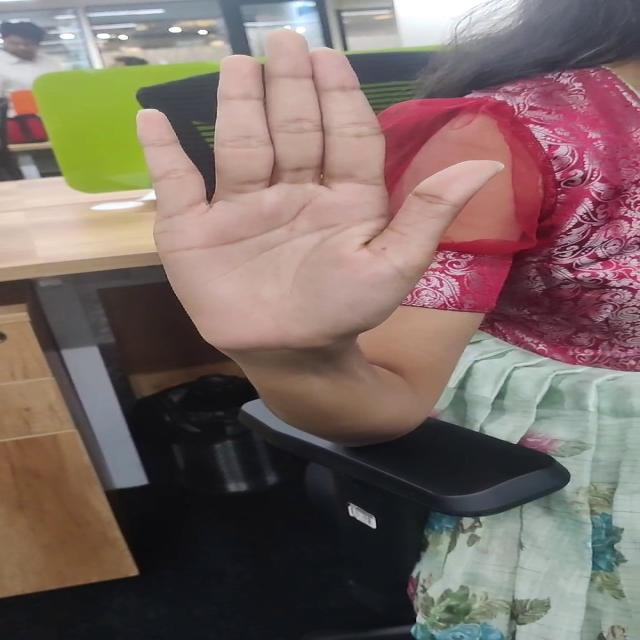no-gloves: (105, 13, 501, 365)
